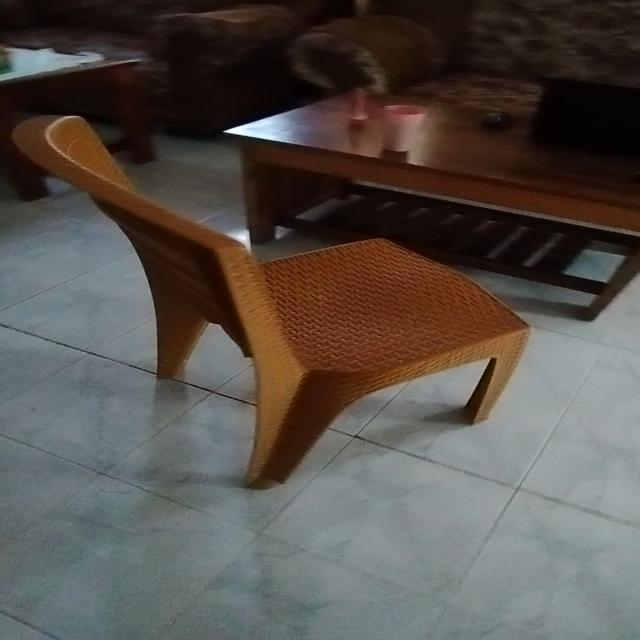chair: (13, 110, 537, 495)
